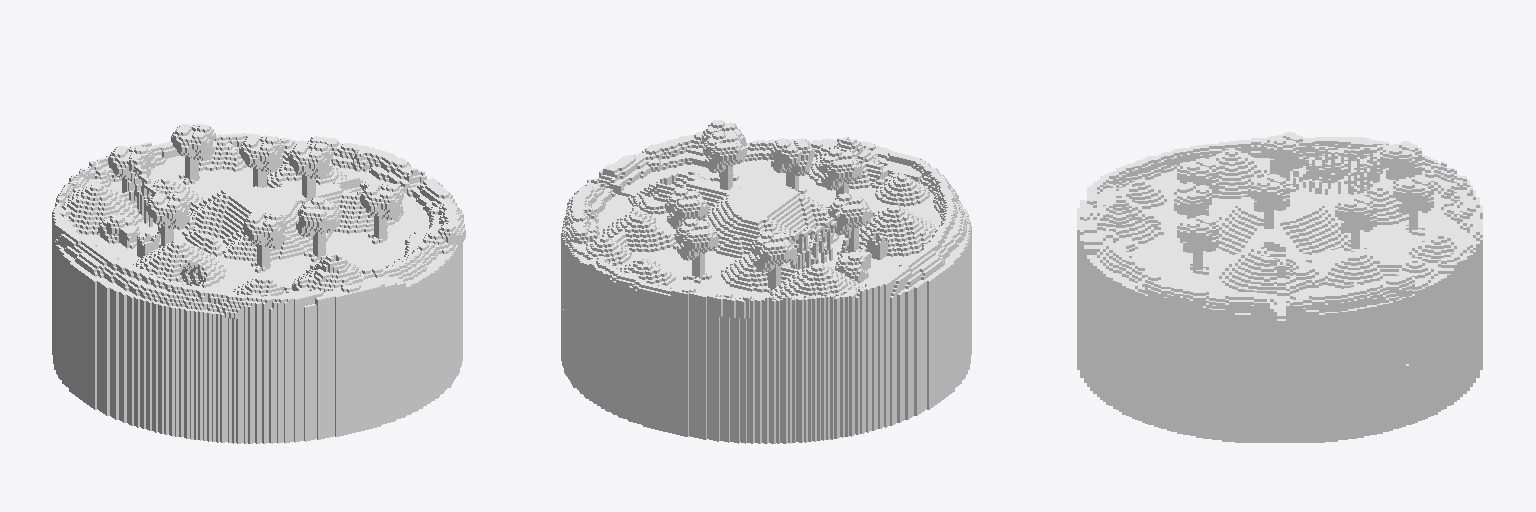
File: forest_arena-2.obj
3 views of the same model, side by side, from view 1: azimuth 30°, elevation 25°; view 2: azimuth 150°, elevation 25°; view 3: azimuth 270°, elevation 25° (orthographic).
Parts seen in each view (by area): view 1: forest_arena-2; view 2: forest_arena-2; view 3: forest_arena-2.
Boxes of the visible parts, <box> form: forest_arena-2: <box>52,124,465,443</box>; forest_arena-2: <box>561,120,971,443</box>; forest_arena-2: <box>1077,132,1482,442</box>.
Bounding box in the file's own units: 125 × 70 × 126.